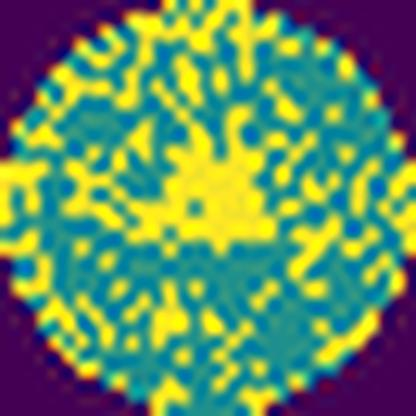Center: (120, 80, 286, 260)
